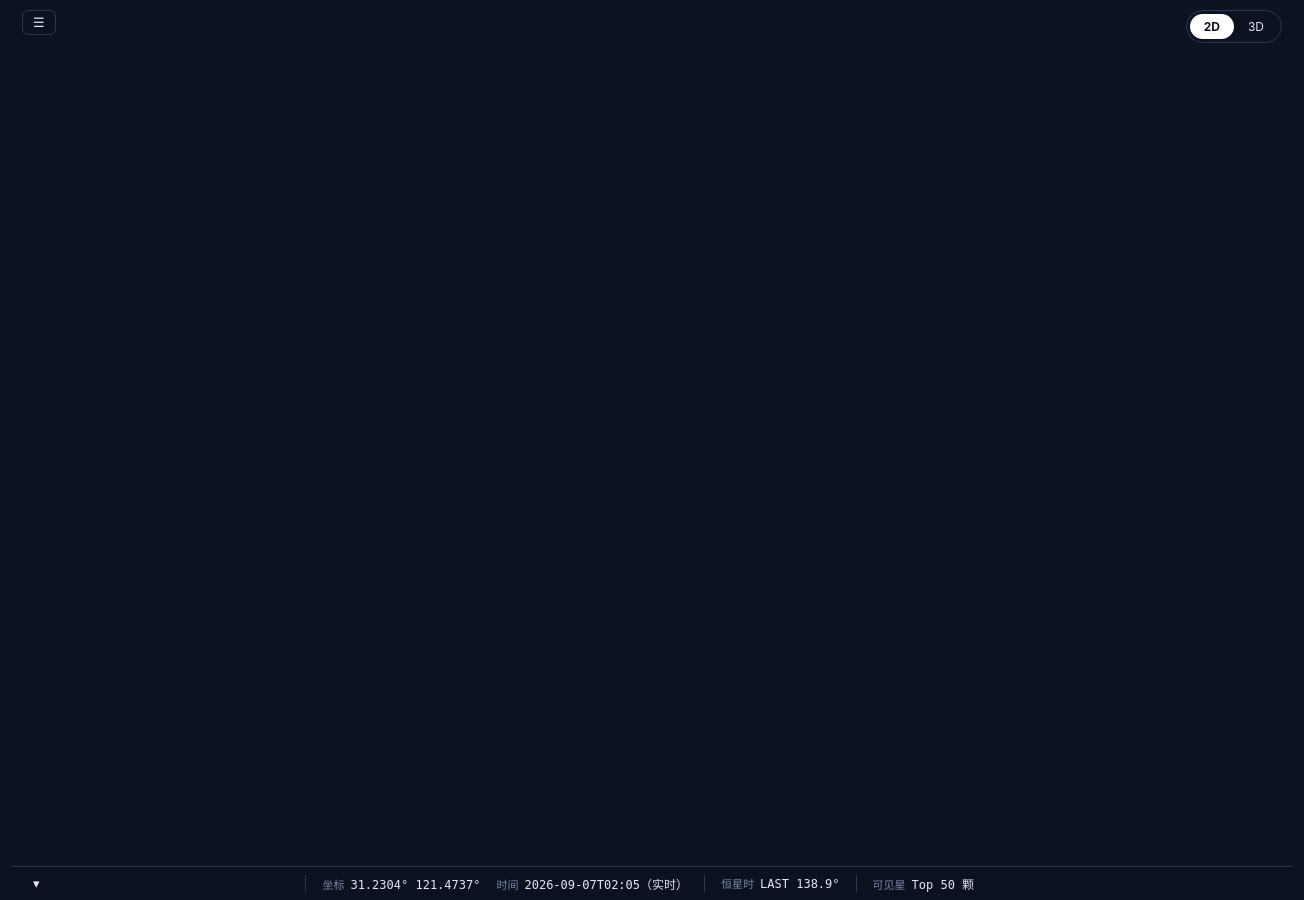
Scenario: App › 底部状态栏可收起/展开
This screenshot has width=1304, height=900.
Expected: the element with test id "summary" is shown, [12,866,1292,899]
Click the button named "收起状态栏" at (36, 884), box [22,871,50,896]
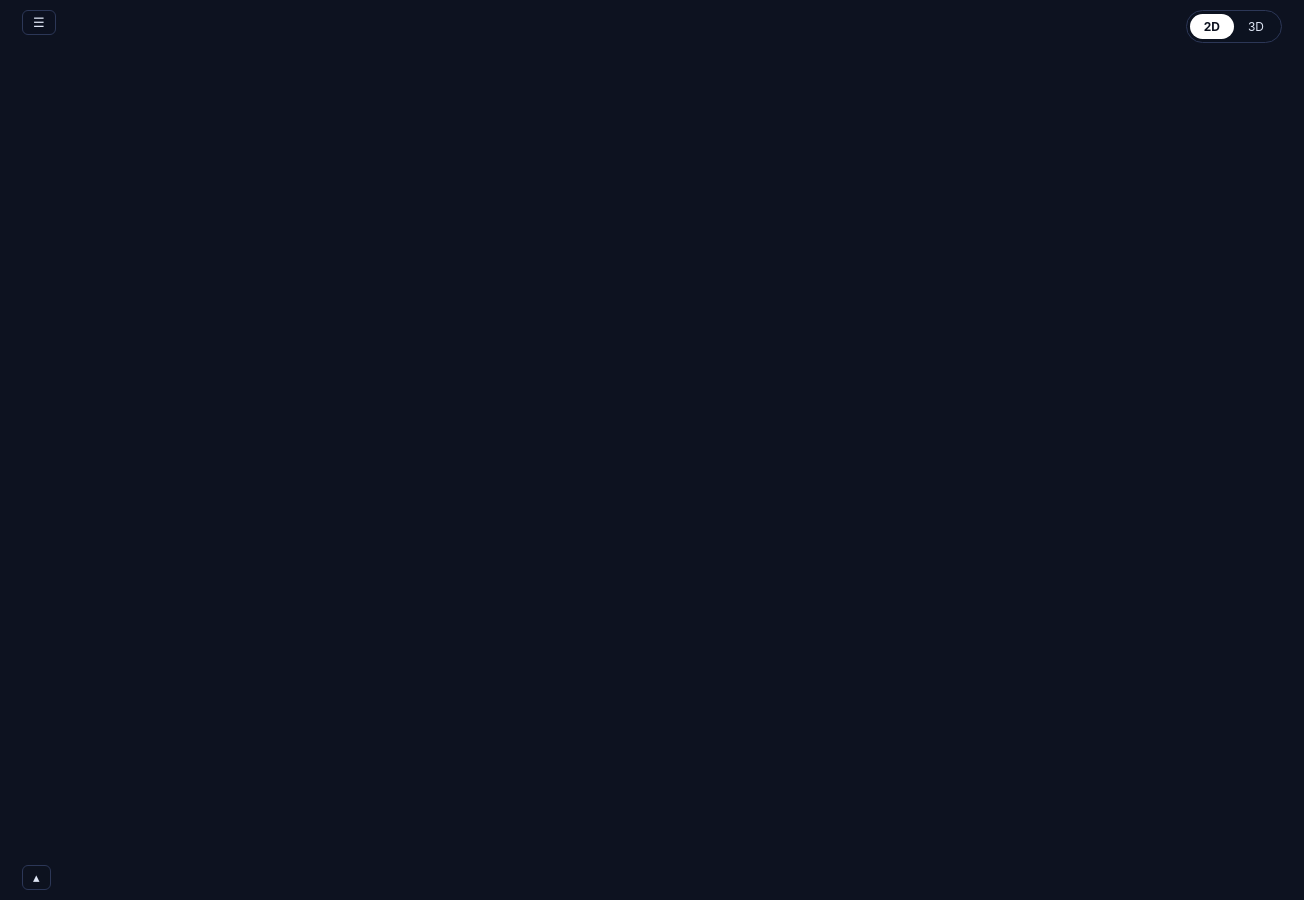
Expected: the element with test id "summary" is gone
Click the button named "展开状态栏" at (36, 878), box [22,865,50,890]
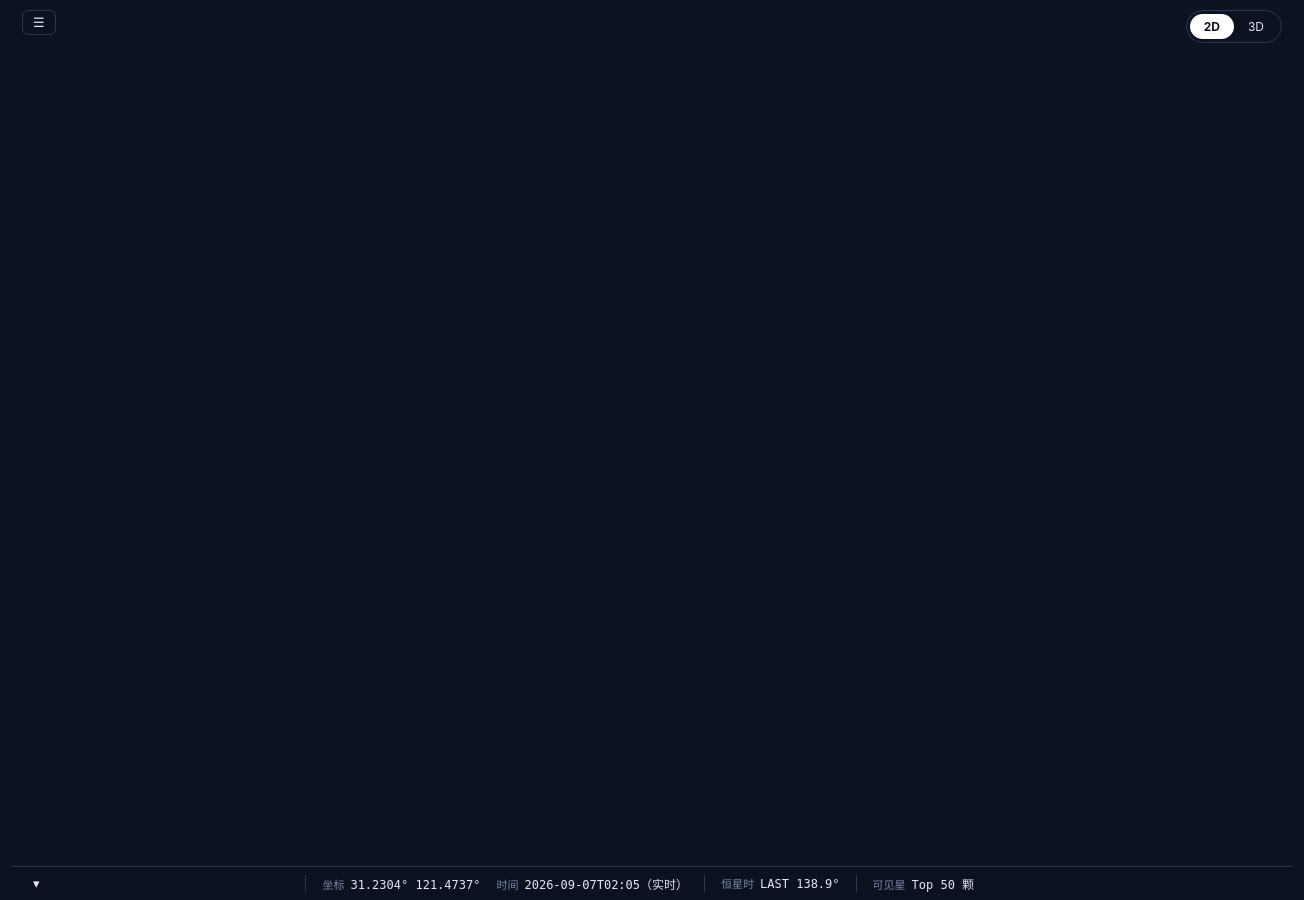
Expected: the element with test id "summary" is shown, [12,866,1292,899]
